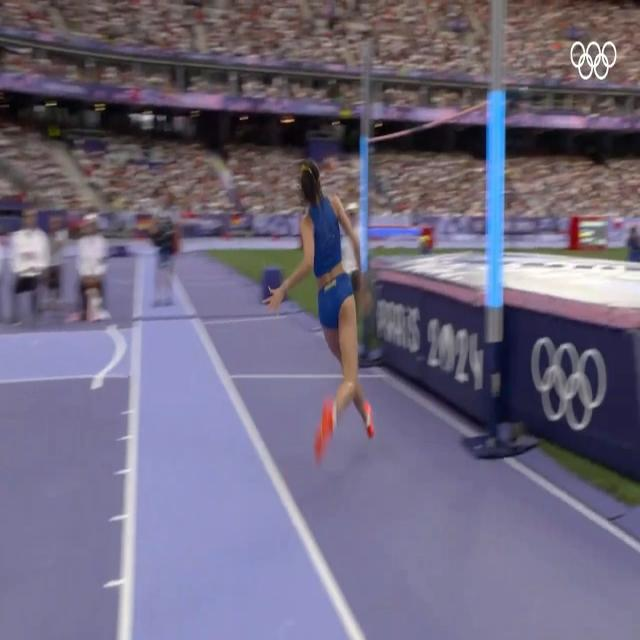run: (266, 170, 379, 457)
